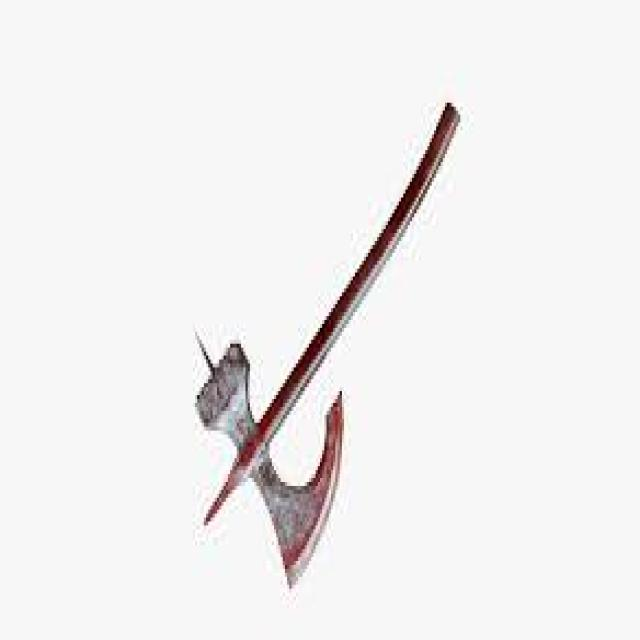Gun: (180, 85, 468, 606)
